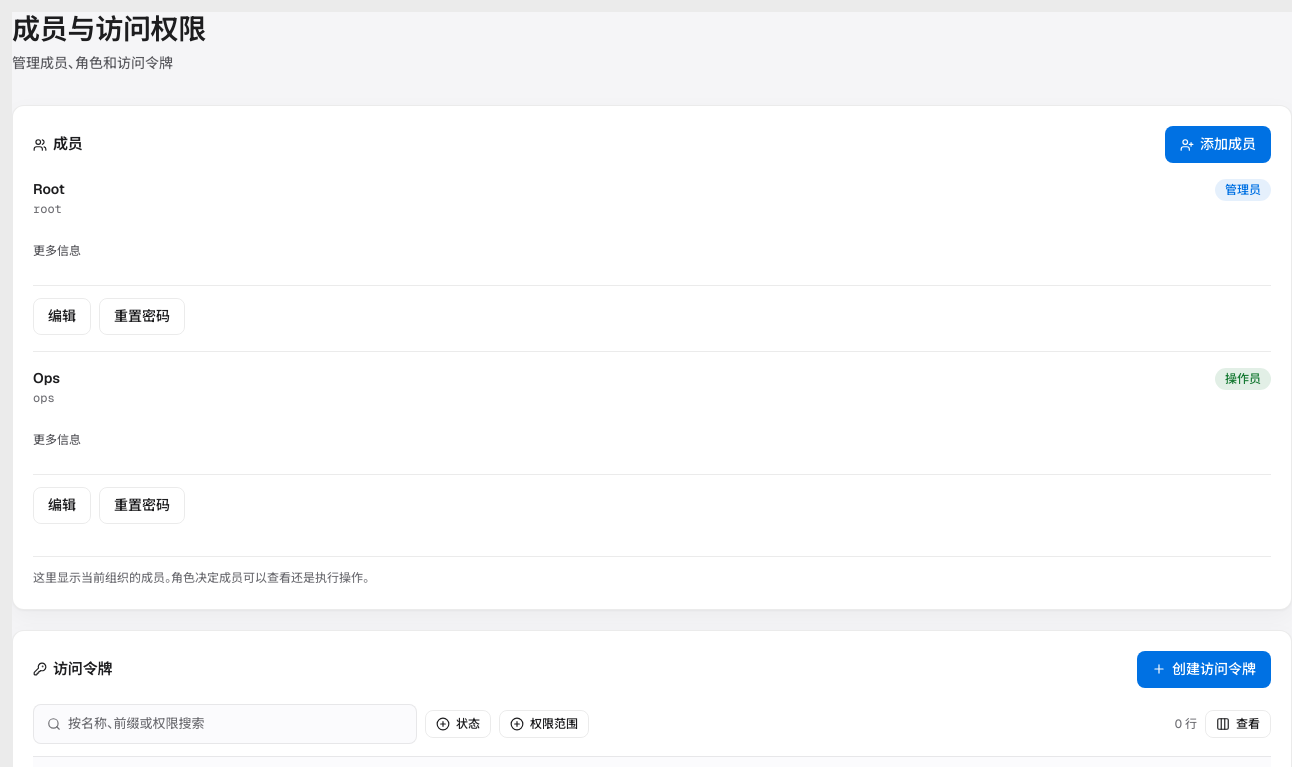
TestAdminCanManageUsers › 添加成员：空用户名/空密码就地报错并标记 aria-invalid，不发请求
Click the button "添加成员" at (1218, 144), box [1165,126,1271,163]
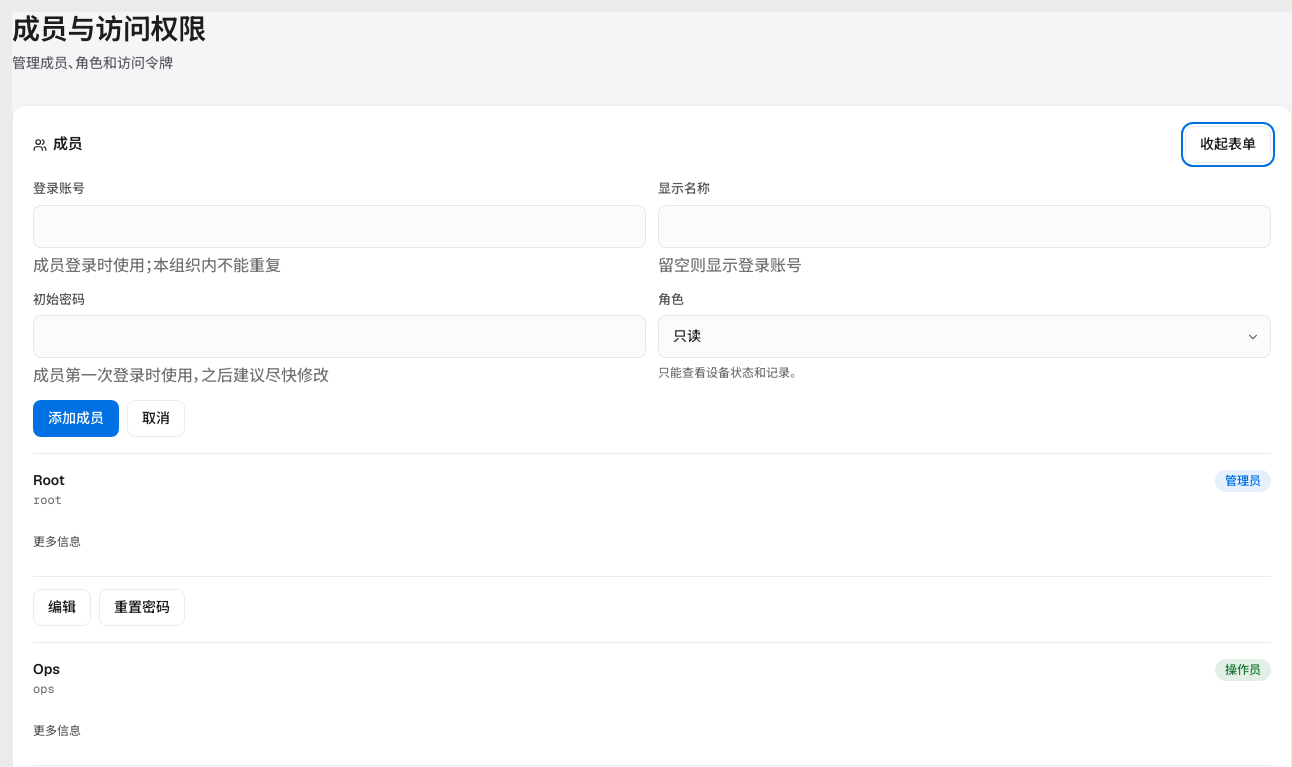
Click the button "添加成员" at (76, 418), box [33,400,119,437]
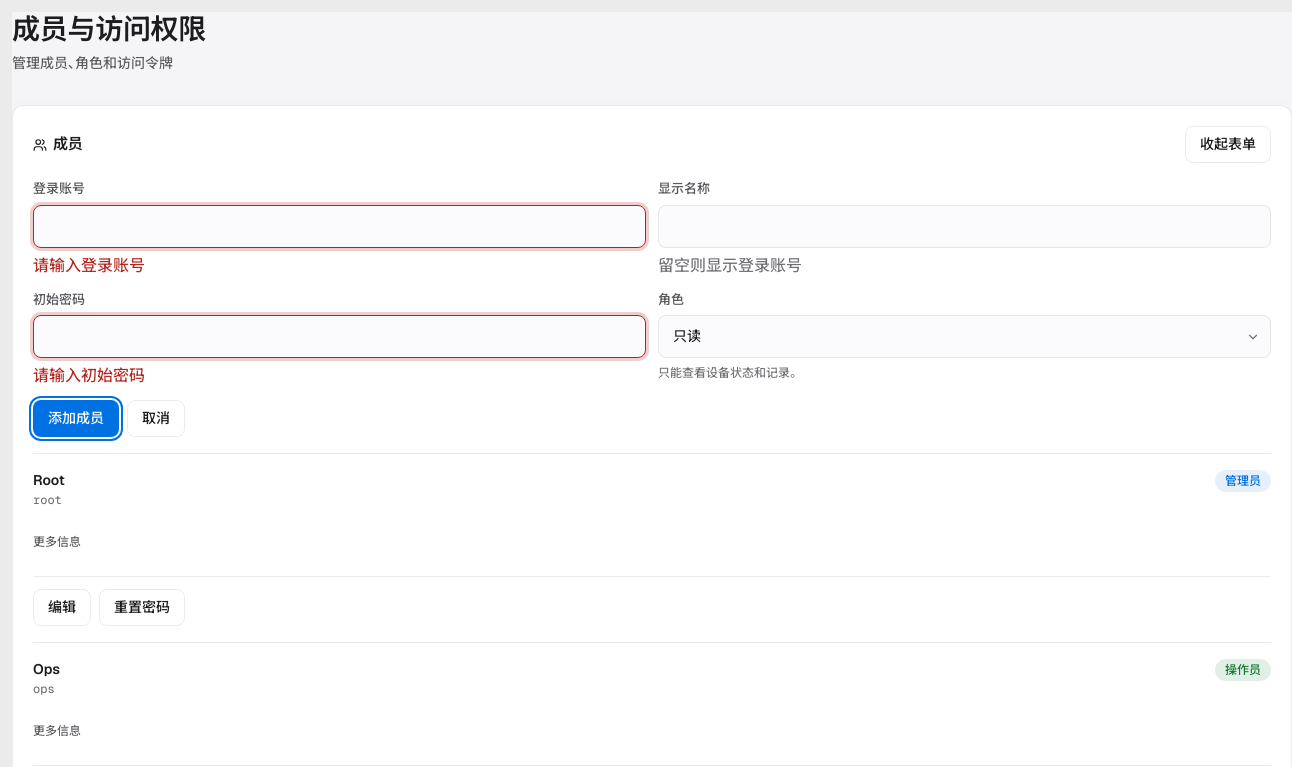
Expected: the text "请输入登录账号" is shown, [33,254,145,276]
